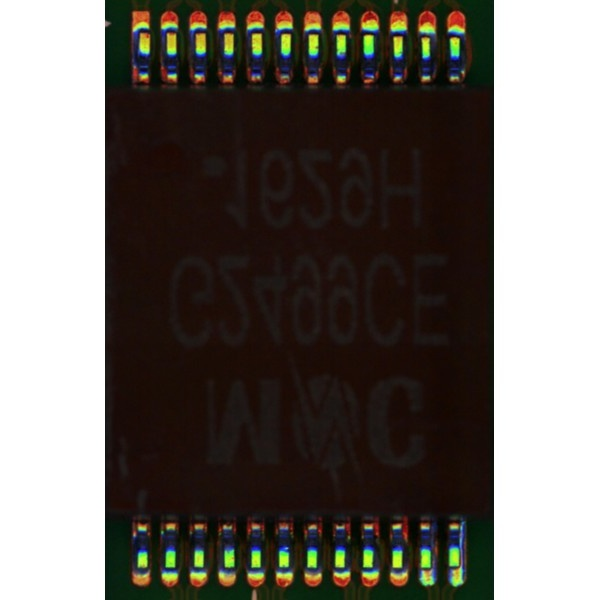Bad_podu: (421, 563, 431, 575), (450, 563, 460, 573)
Bad_qiaojiao: (459, 519, 466, 567)
